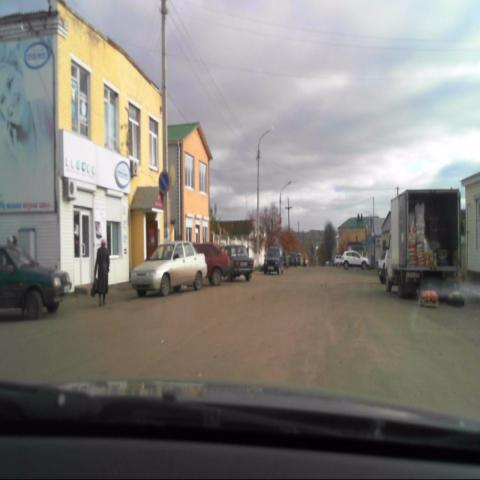3_28: (157, 169, 171, 196)
